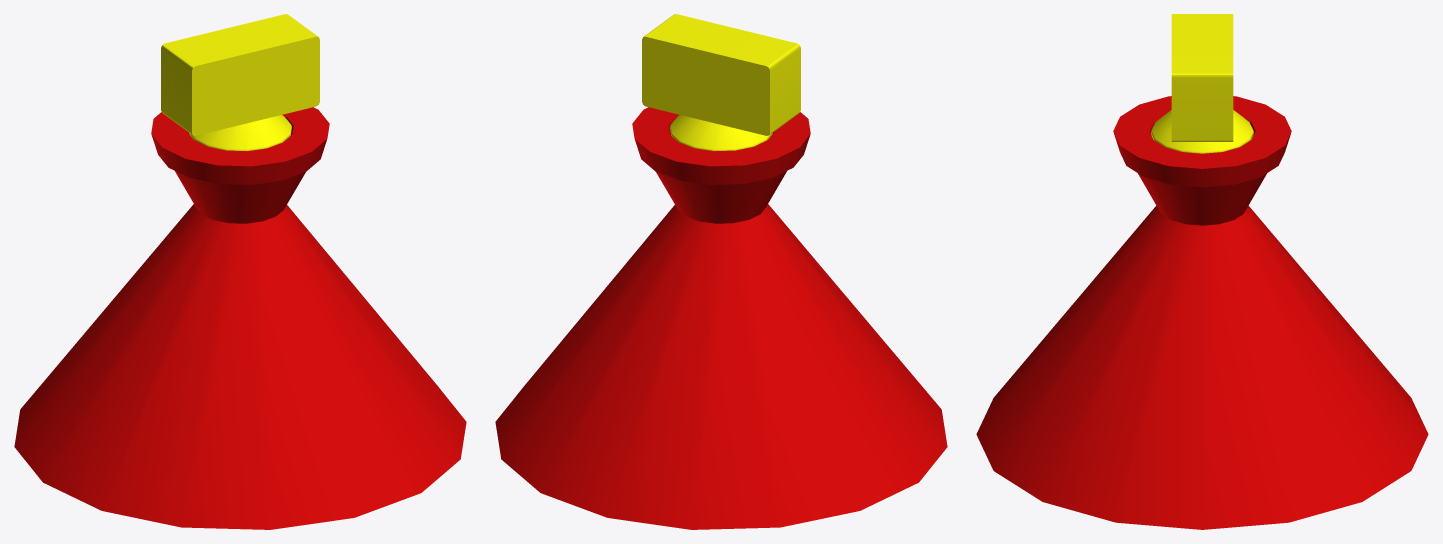
File: Abbie - ChemicalBottle6Purple.fbx
The picture shows the model from 3 angles, left to right: view 1: azimuth 30°, elevation 25°; view 2: azimuth 150°, elevation 25°; view 3: azimuth 270°, elevation 25°; orthographic projection.
Parts seen in each view (by area): view 1: bottle7; view 2: bottle7; view 3: bottle7.
Boxes of the visible parts, box(x1,y1,x2,y2) form: bottle7: box(14, 14, 466, 529); bottle7: box(495, 14, 947, 529); bottle7: box(976, 14, 1428, 529).
Bounding box in the file's own units: 12.16 × 11.6 × 12.16.
